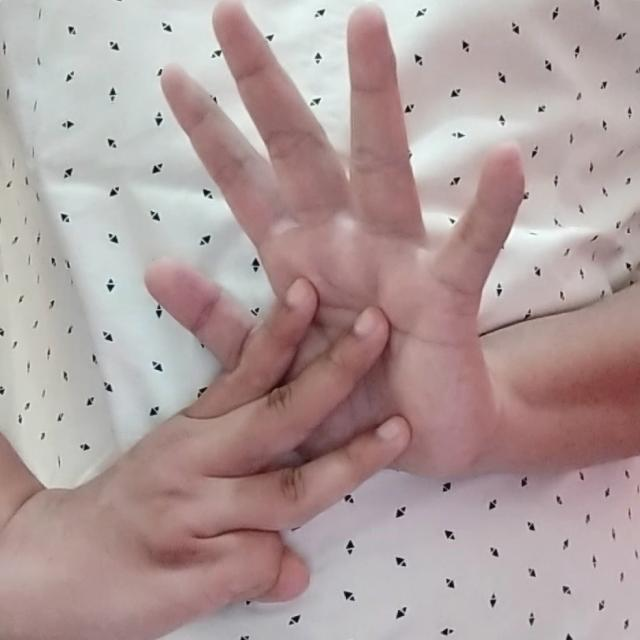M: (80, 1, 539, 622)
